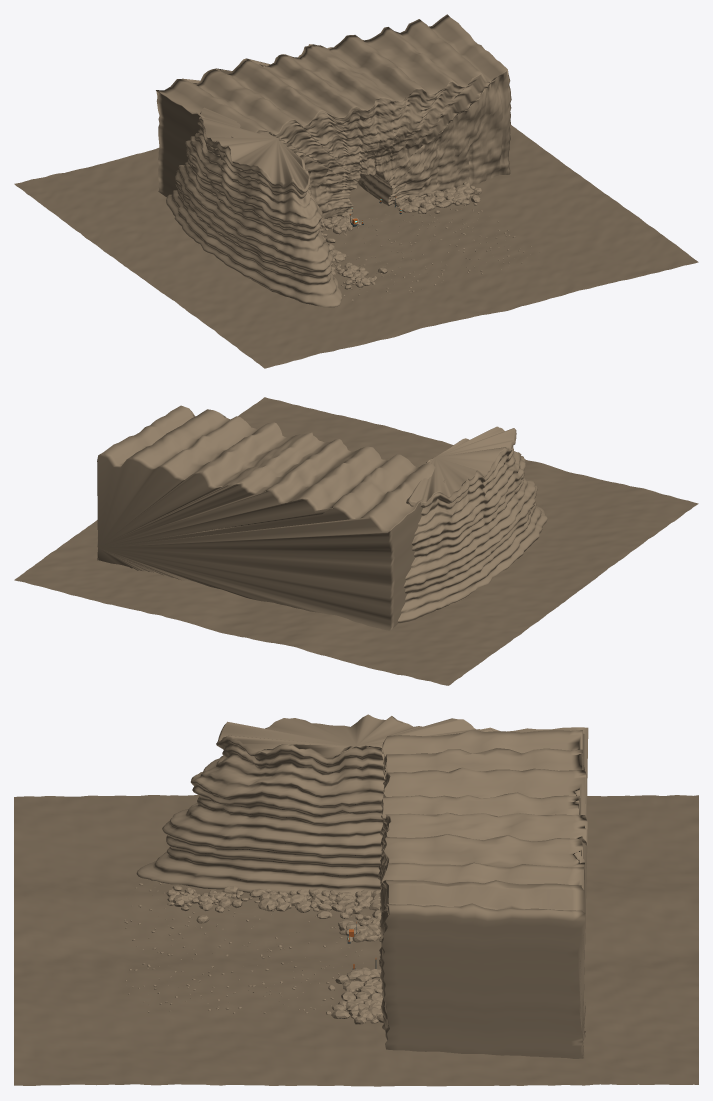
Rendered from canyon-authored.glb.
3 renders of one model, top to bottom at view 1: azimuth 30°, elevation 25°; view 2: azimuth 150°, elevation 25°; view 3: azimuth 270°, elevation 25°, orthographic. The views are drawn at different scales.
Parts seen in each view (by area): view 1: floor, massif, ridge, talus; view 2: massif, floor, ridge; view 3: floor, massif, ridge, talus.
Boxes of the visible parts, <box> form: floor: <box>14,124,698,368</box>; massif: <box>156,14,511,218</box>; ridge: <box>166,107,342,307</box>; talus: <box>319,182,539,301</box>; massif: <box>97,405,445,630</box>; floor: <box>14,397,698,685</box>; ridge: <box>397,426,547,623</box>; floor: <box>14,795,698,1086</box>; massif: <box>378,727,588,1058</box>; ridge: <box>136,714,493,895</box>; talus: <box>124,882,383,1024</box>.
Size of the model in its own units: 140 by 40.96 by 140.
